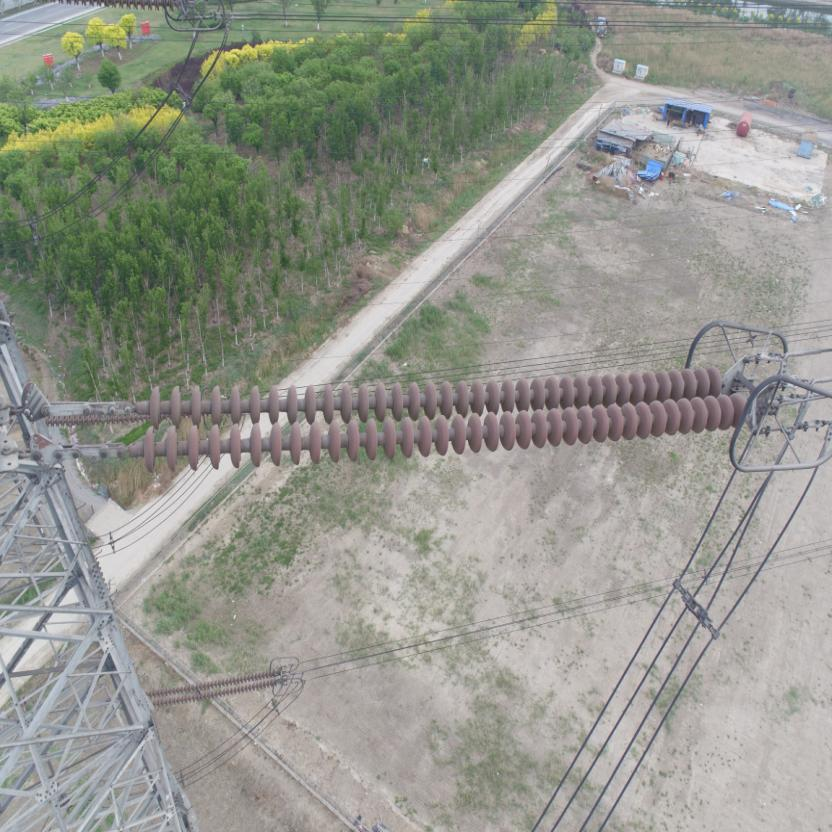insulator: (78, 356, 760, 474), (152, 662, 284, 704)
